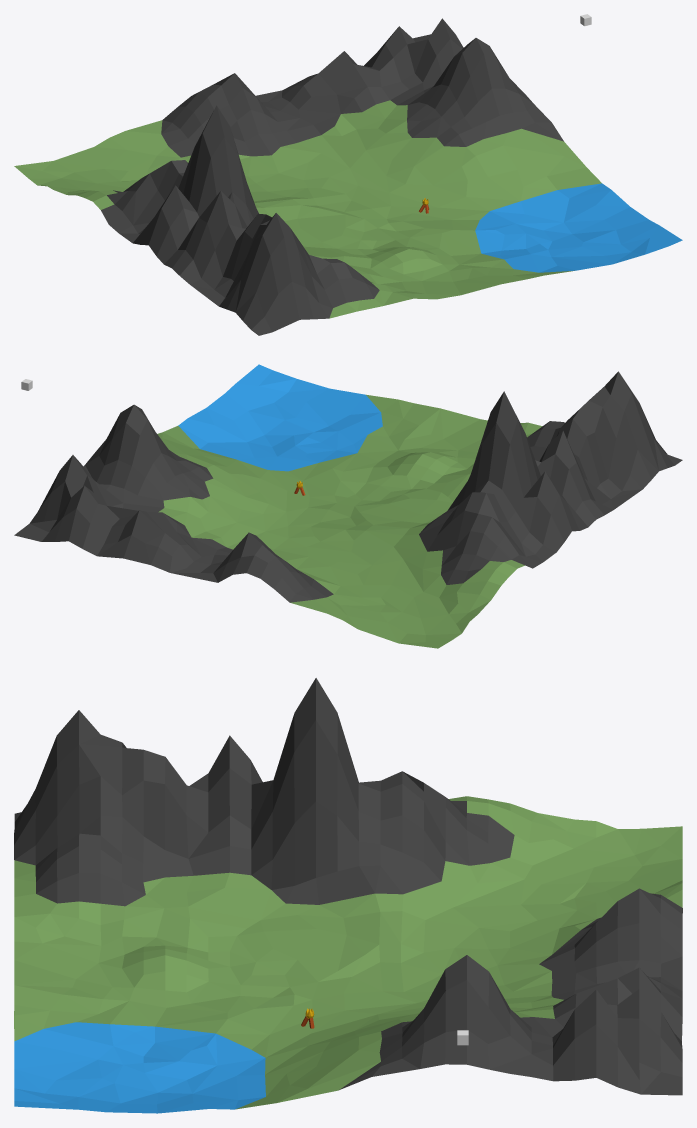
Rendered from mountainScene.fbx.
3 views of the same model, one above another, from view 1: azimuth 30°, elevation 25°; view 2: azimuth 150°, elevation 25°; view 3: azimuth 270°, elevation 25° (orthographic). The views are drawn at different scales.
Parts seen in each view (by area): view 1: Plane; view 2: Plane; view 3: Plane.
Boxes of the visible parts, x1,y1,x2,y2 form: Plane: (14,18,682,335); Plane: (14,364,682,648); Plane: (14,678,682,1113).
Size of the model in its own units: 1820 by 559 by 1560.
